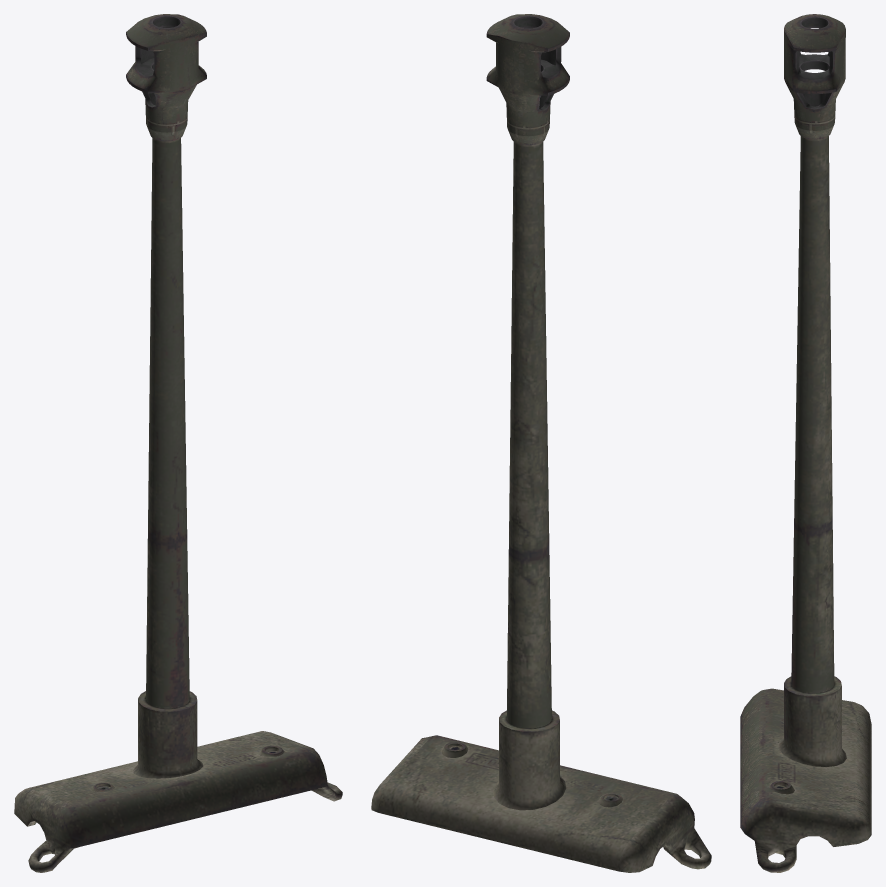
The model's file is Gun_01.glb.
3 views of the same model, side by side, from view 1: azimuth 30°, elevation 25°; view 2: azimuth 150°, elevation 25°; view 3: azimuth 270°, elevation 25° (orthographic). The views are drawn at different scales.
Visible parts, largest first — view 1: set_0_group_0; view 2: set_0_group_0; view 3: set_0_group_0.
Boxes of the visible parts, x1,y1,x2,y2 form: set_0_group_0: (14,14,342,872); set_0_group_0: (371,14,711,872); set_0_group_0: (740,14,871,872).
Size of the model in its own units: 1.38 by 3.39 by 0.5168.
Materials: 1 (1 with a texture image).
